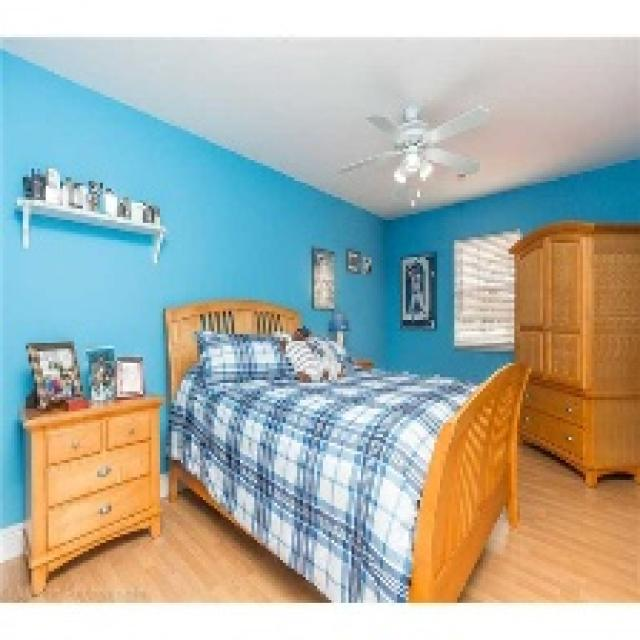Bed: (163, 297, 528, 603)
